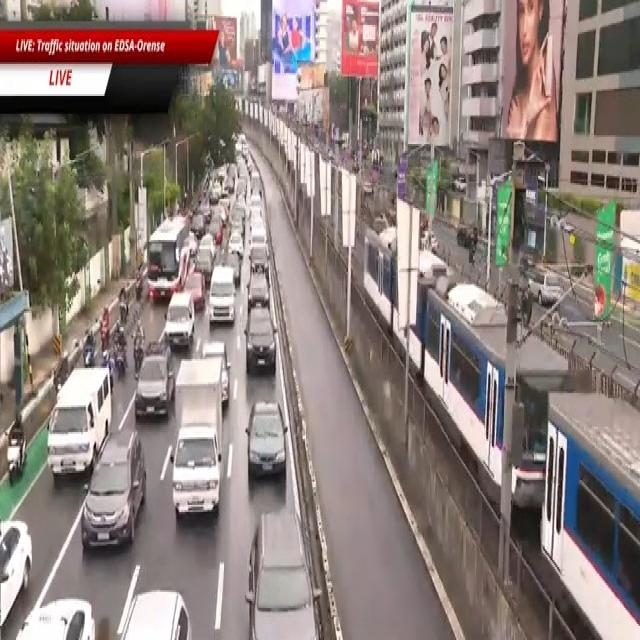car: (251, 505, 326, 640), (83, 430, 151, 562), (118, 590, 194, 640), (22, 594, 95, 640), (247, 398, 286, 484), (243, 304, 277, 380), (133, 358, 173, 422), (160, 294, 197, 347), (207, 270, 235, 330), (247, 273, 269, 312), (184, 266, 203, 309), (221, 247, 241, 285), (248, 243, 270, 274), (195, 240, 211, 282), (205, 214, 224, 245), (248, 225, 271, 248), (230, 231, 244, 258)
motorbike: (7, 408, 30, 483), (51, 352, 70, 389), (115, 324, 128, 374), (84, 328, 98, 363), (100, 304, 110, 346), (132, 333, 142, 371)
truck: (170, 356, 226, 519)
